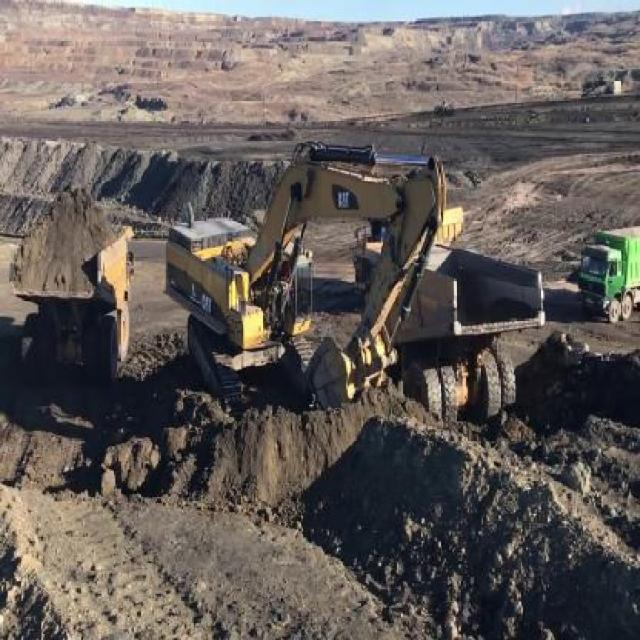Dump Truck: (351, 210, 547, 427), (11, 191, 132, 383), (575, 215, 639, 320)
Excavator: (160, 139, 448, 407)
